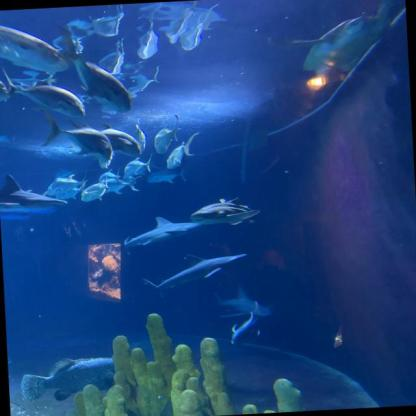fish: (56, 20, 131, 116), (3, 62, 85, 122), (20, 356, 117, 403), (39, 106, 112, 164), (0, 22, 70, 77), (65, 122, 142, 161), (165, 132, 202, 170), (153, 115, 181, 155), (46, 171, 89, 197), (230, 312, 262, 346), (146, 164, 190, 184), (79, 175, 109, 203), (102, 175, 142, 195), (54, 179, 90, 201), (124, 154, 154, 174), (0, 64, 10, 104), (98, 168, 121, 183)
shark: (141, 251, 255, 300), (0, 172, 70, 223), (121, 213, 201, 254), (188, 196, 260, 228), (216, 284, 272, 320)
